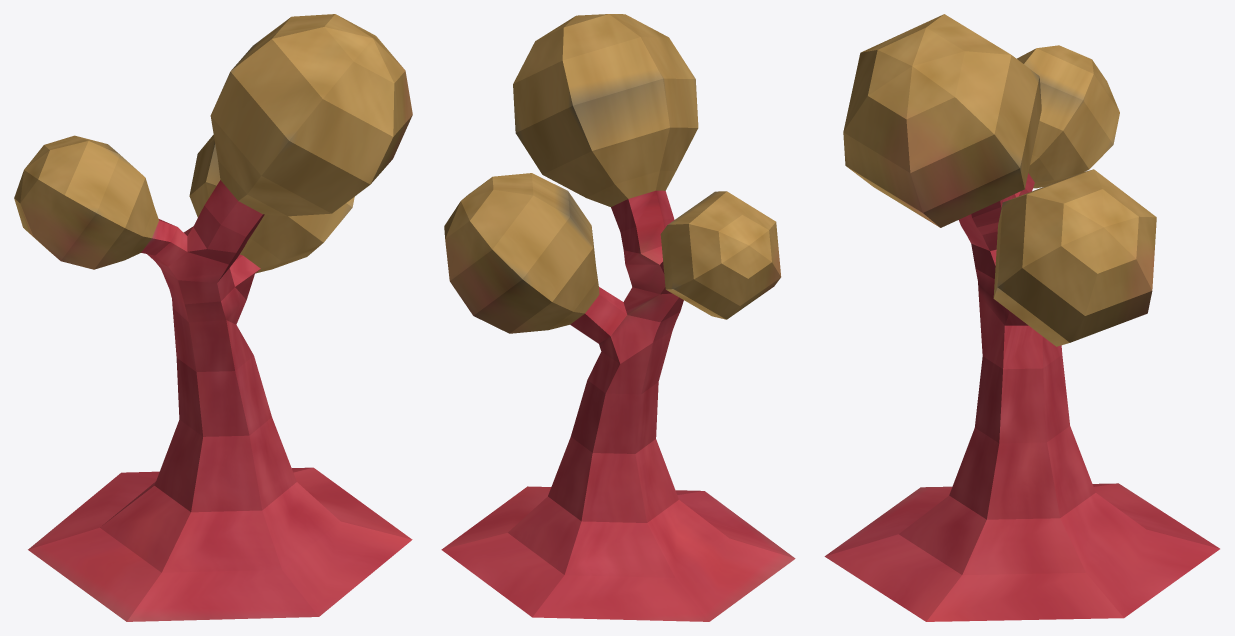
The model's file is Tree3.fbx.
3 views of the same model, side by side, from view 1: azimuth 30°, elevation 25°; view 2: azimuth 150°, elevation 25°; view 3: azimuth 270°, elevation 25° (orthographic). The views are drawn at different scales.
Visible parts, largest first — view 1: pSphere6; view 2: pSphere6; view 3: pSphere6.
Part boxes in pixels (left/top/right/bottom): pSphere6: left=14, top=14, right=412, bottom=621; pSphere6: left=441, top=14, right=795, bottom=621; pSphere6: left=824, top=14, right=1219, bottom=621.
Bounding box in the file's own units: 11.09 × 17.07 × 10.94.
1 material, 1 textured.
